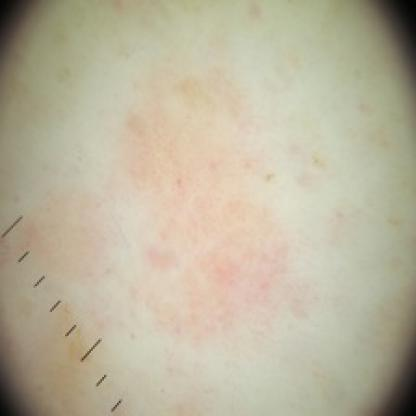malignant: (124, 80, 280, 325)
